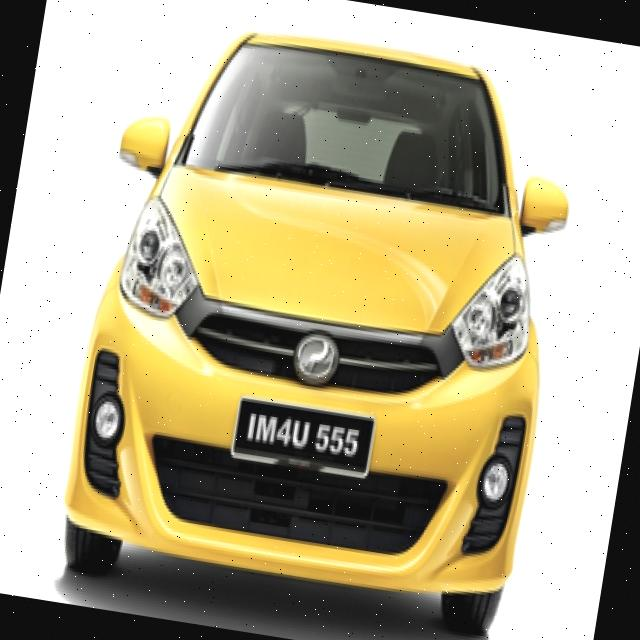Autre: (230, 393, 378, 482)
